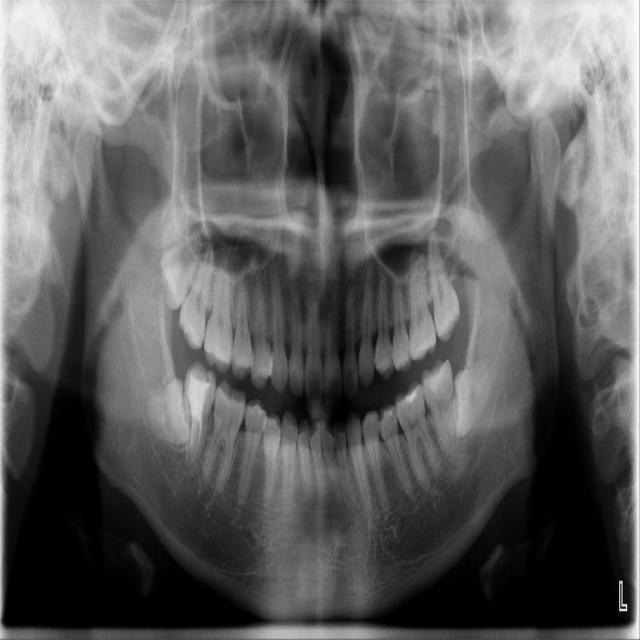3M ESPE Implant: (147, 222, 207, 314)
52: (178, 359, 221, 421), (393, 379, 426, 431)
73: (180, 406, 211, 468), (600, 566, 612, 579)
BioHorizons Implant: (425, 232, 464, 343)
Biomet 3i Implant: (451, 361, 494, 440)
Blue Sky Bio Implant: (418, 358, 464, 459)
Caries: (174, 239, 217, 351)
Implant: (167, 358, 222, 469)
Keystone Dental Implant: (141, 376, 196, 450)
